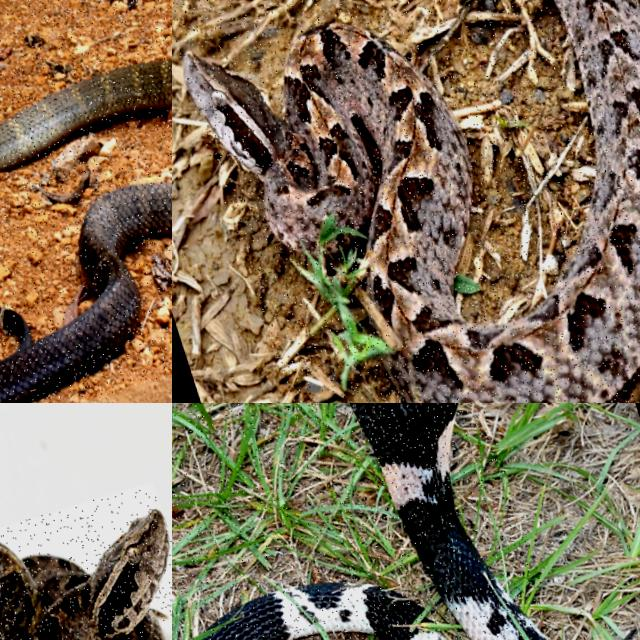Calloselasma rhodostoma: (183, 0, 639, 402), (0, 511, 168, 639)
Naja kaouthia: (350, 403, 545, 639)
Ophiophagus hannah: (0, 183, 171, 402)
snake: (183, 0, 639, 402), (350, 403, 545, 639), (0, 183, 171, 402), (0, 511, 168, 639)
